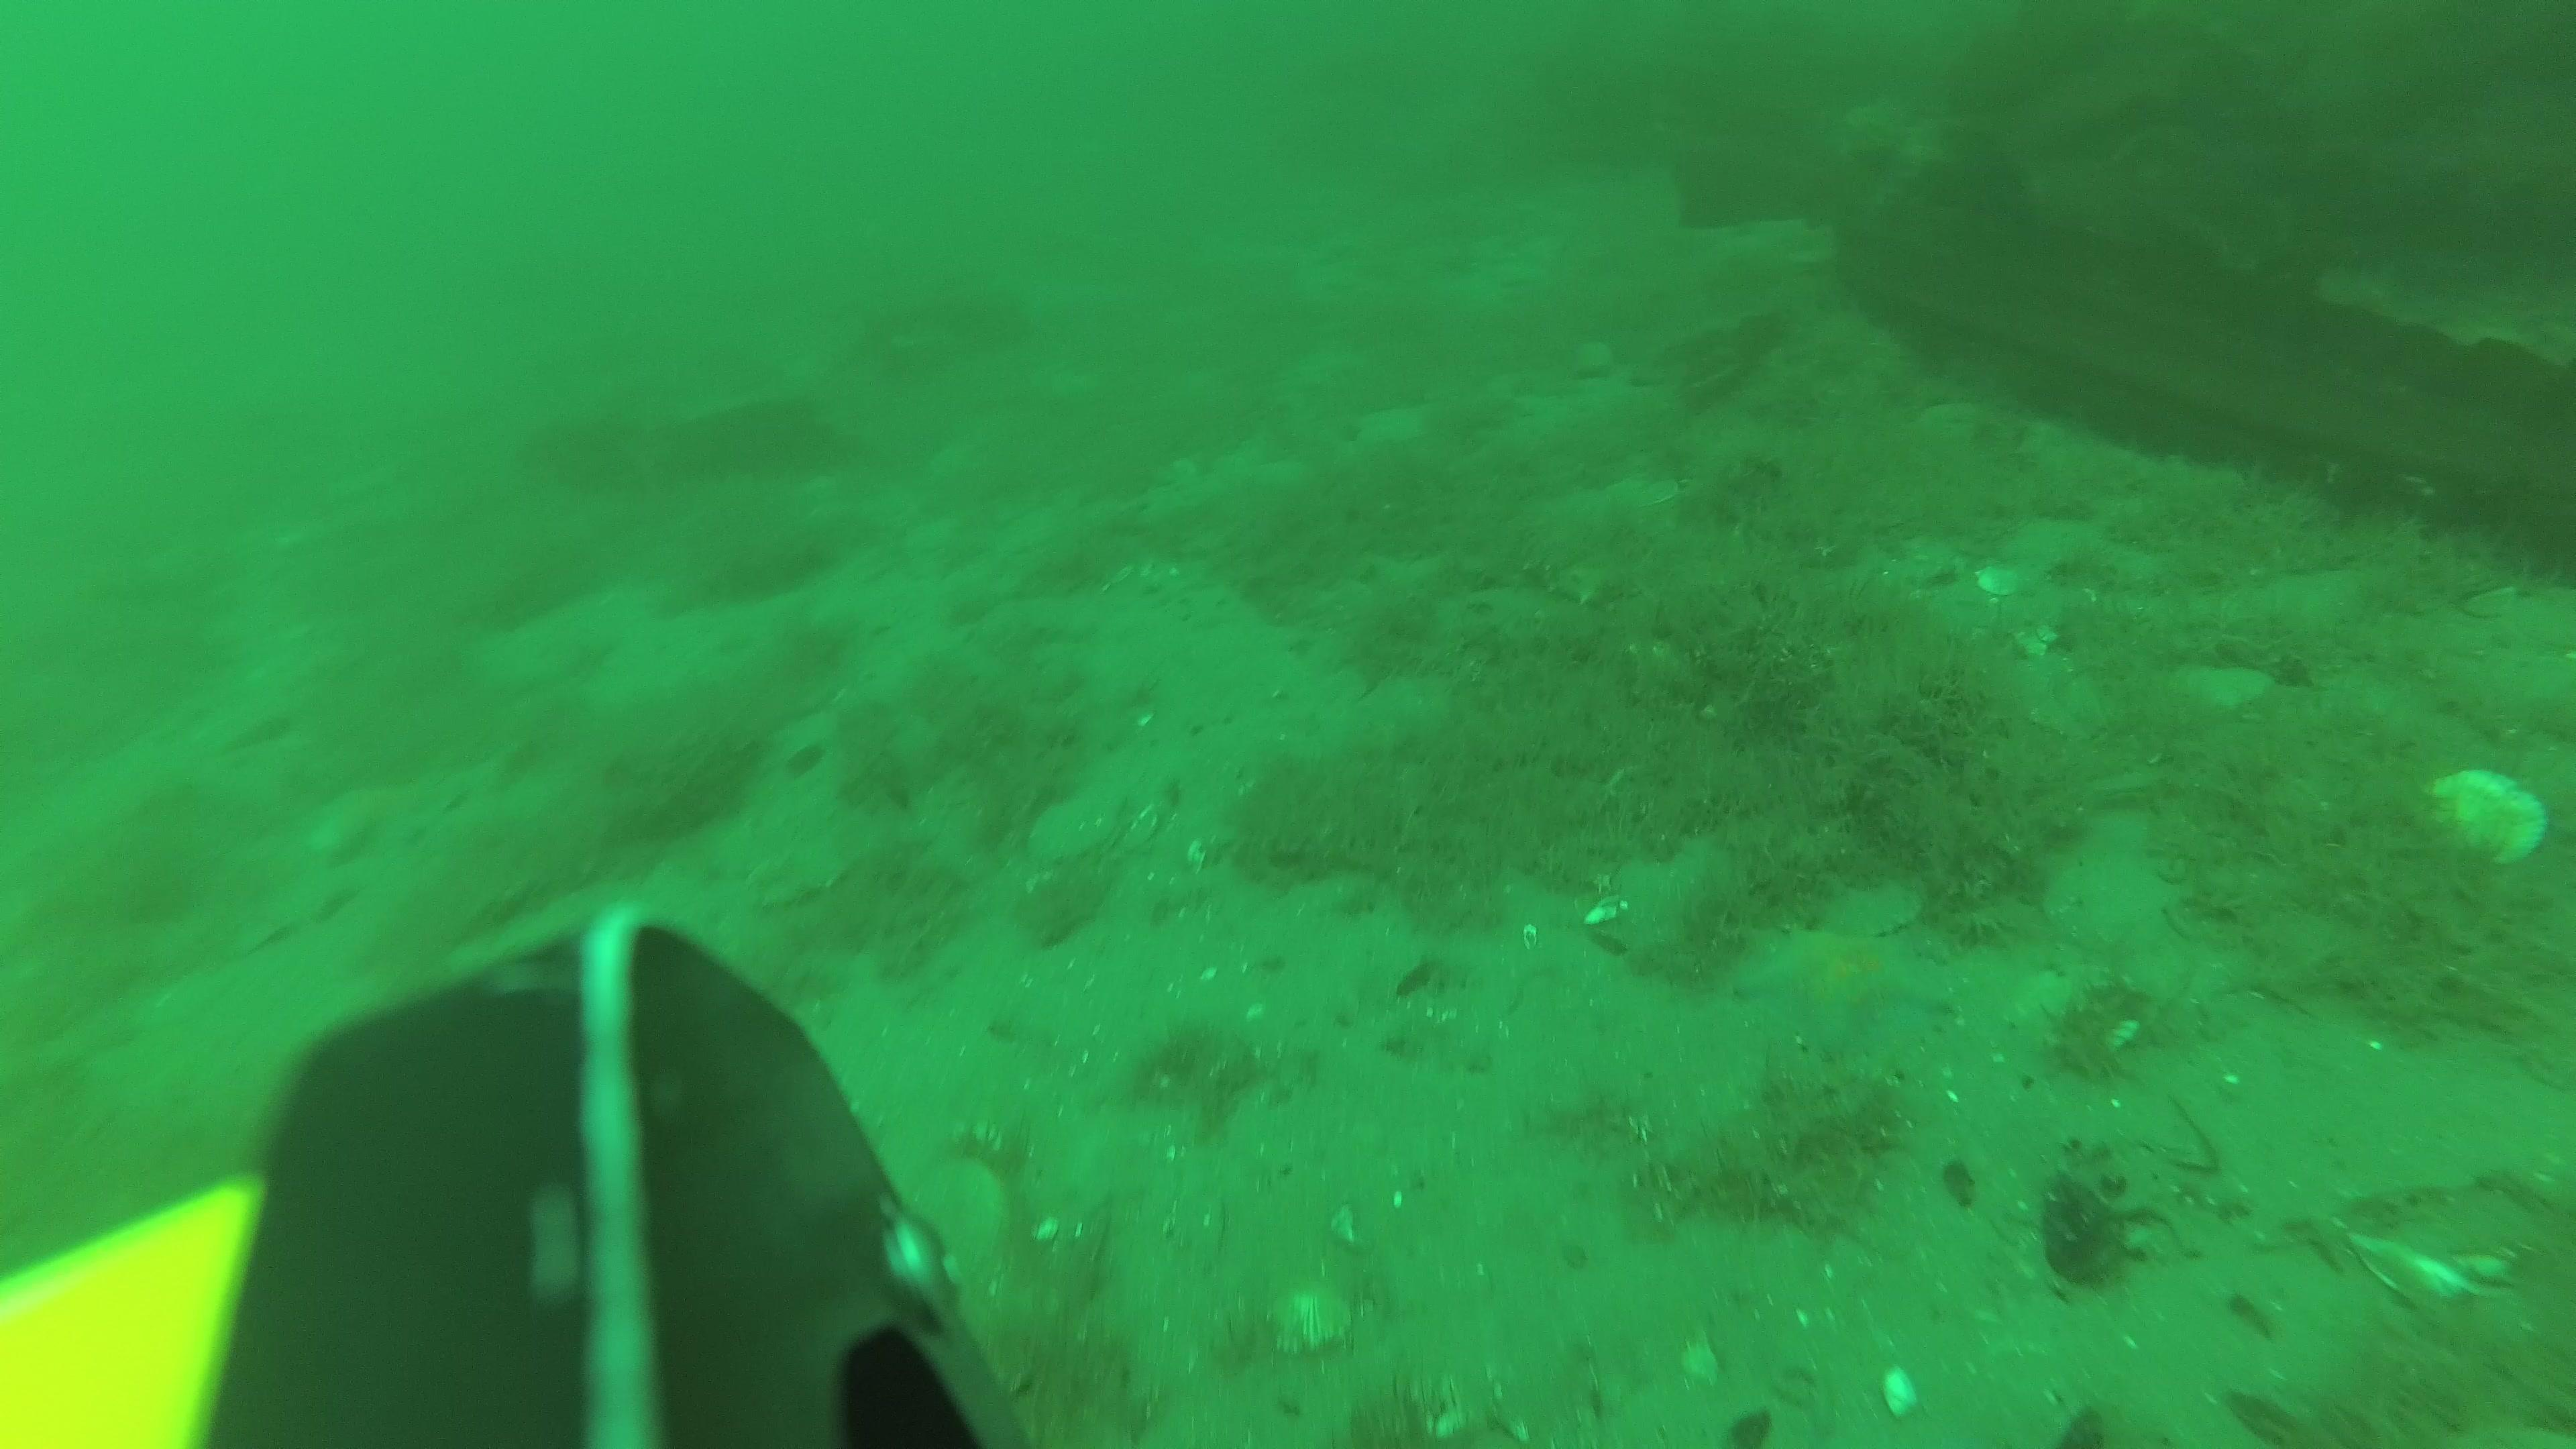scallop: (2420, 761, 2544, 865)
starfish: (1718, 916, 1955, 1049)
